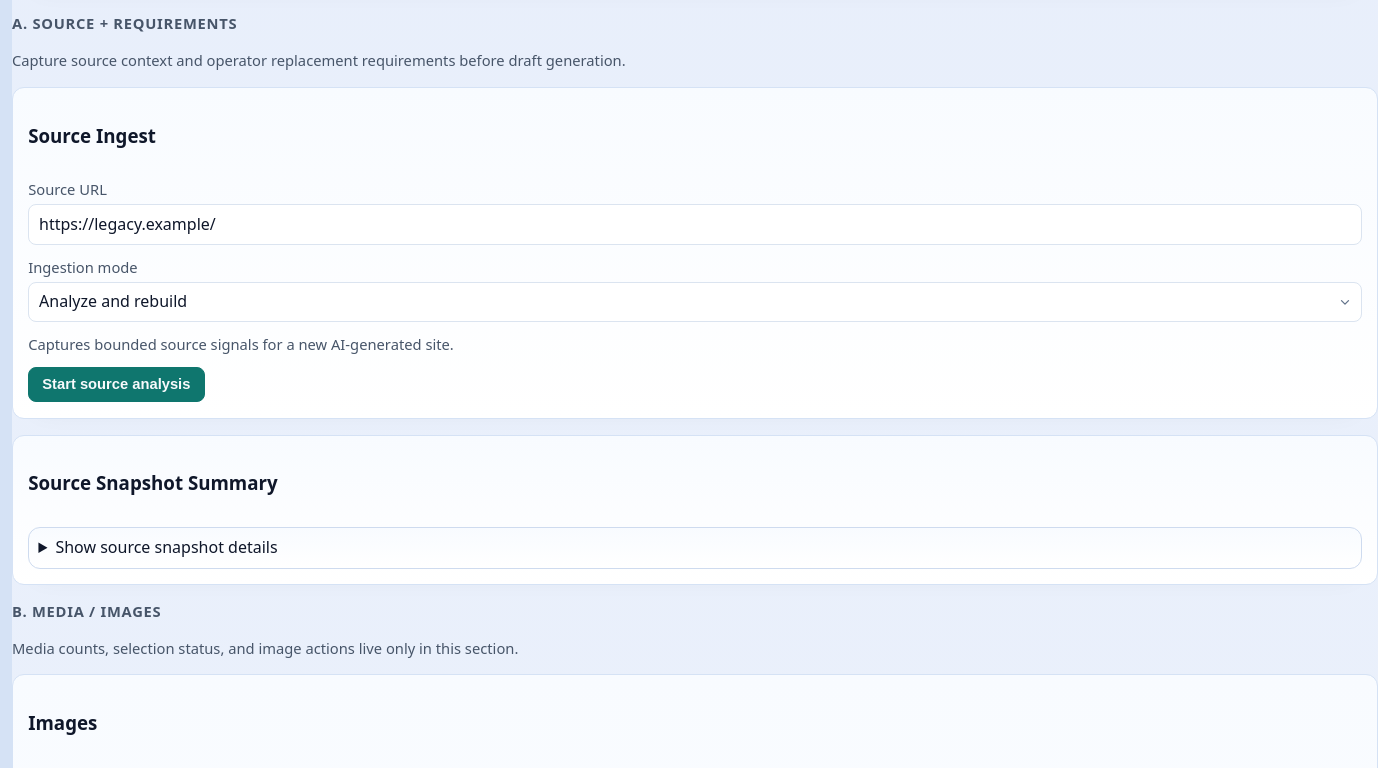
Test: site migration workflow route › queues the default analyze-and-rebuild source mode asynchronously
(page scrolled)
What coordinates should you click on to do the following:
click the button "Start source analysis"
I would click on:
 (116, 385)
Its box is [28, 367, 204, 402].
(page scrolled)
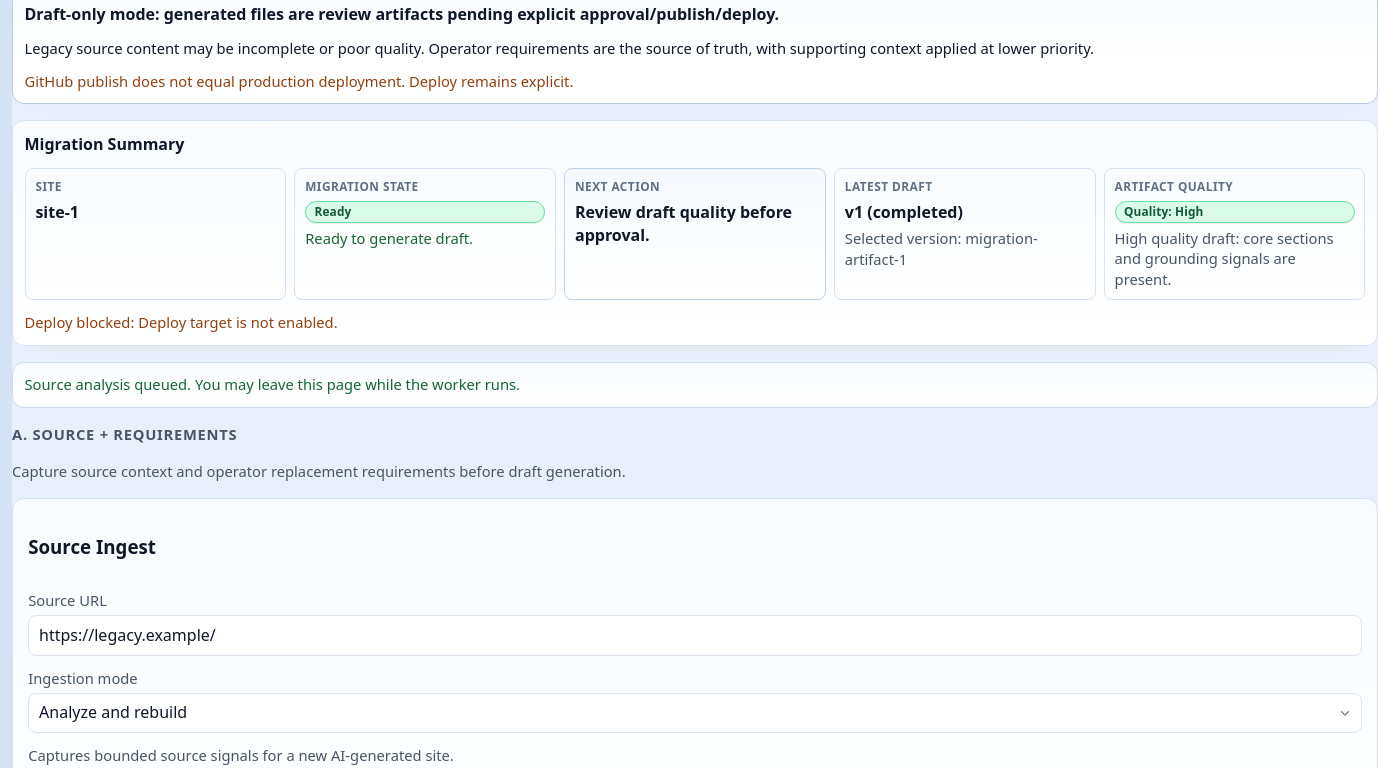
Expected: the text "Source analysis queued" is shown, [24, 374, 520, 394]
